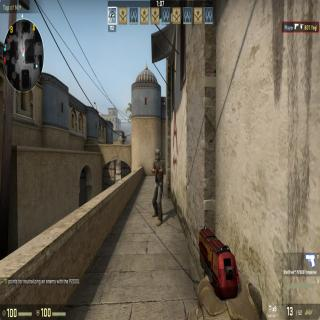T-Body: (151, 148, 164, 226)
T-Head: (154, 147, 161, 161)
